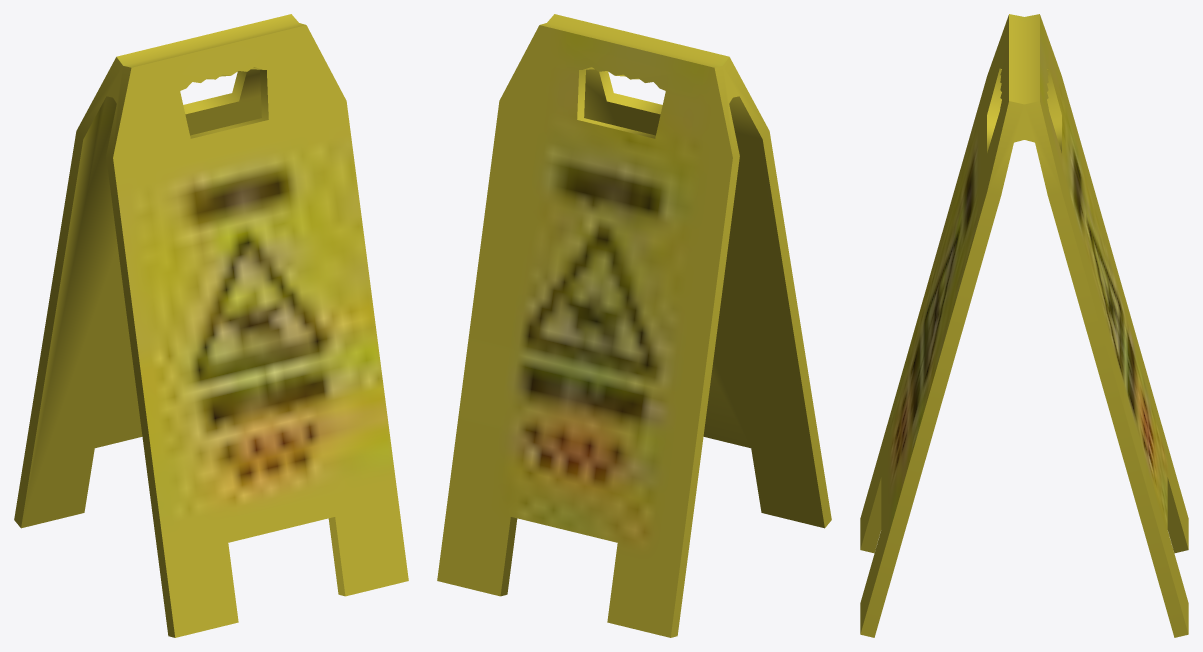
3 renders of one model, left to right at view 1: azimuth 30°, elevation 25°; view 2: azimuth 150°, elevation 25°; view 3: azimuth 270°, elevation 25°, orthographic.
Parts seen in each view (by area): view 1: WetFloorSign_01; view 2: WetFloorSign_01; view 3: WetFloorSign_01.
Part boxes in pixels (bbox=[...]): WetFloorSign_01: bbox=[14, 14, 408, 637]; WetFloorSign_01: bbox=[437, 14, 831, 637]; WetFloorSign_01: bbox=[860, 14, 1188, 637].
Size of the model in its own units: 0.3001 by 0.6295 by 0.3585.
1 material, 1 textured.
